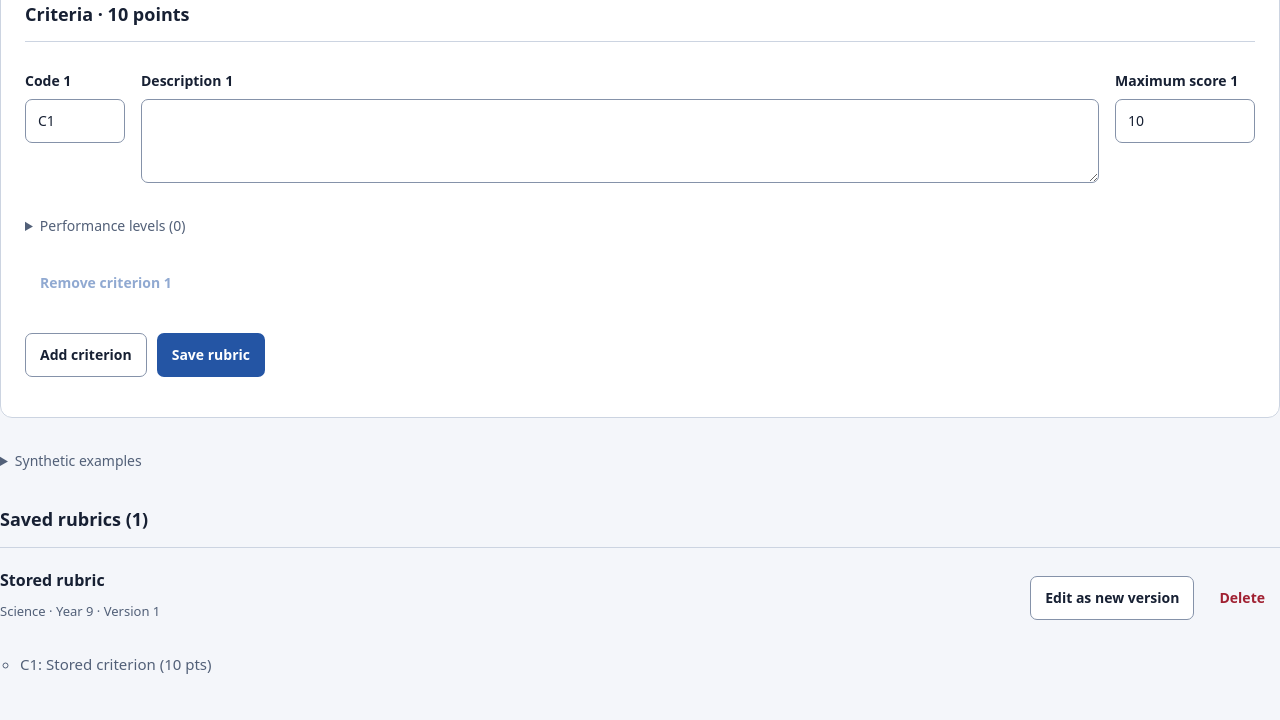
Test case: refuses duplicate criterion codes before a backend write
The width and height of the screenshot is (1280, 720).
(page scrolled)
Click the button with aria-label "Edit Stored rubric". click: (1112, 598)
box: [1030, 576, 1194, 620]
(page scrolled)
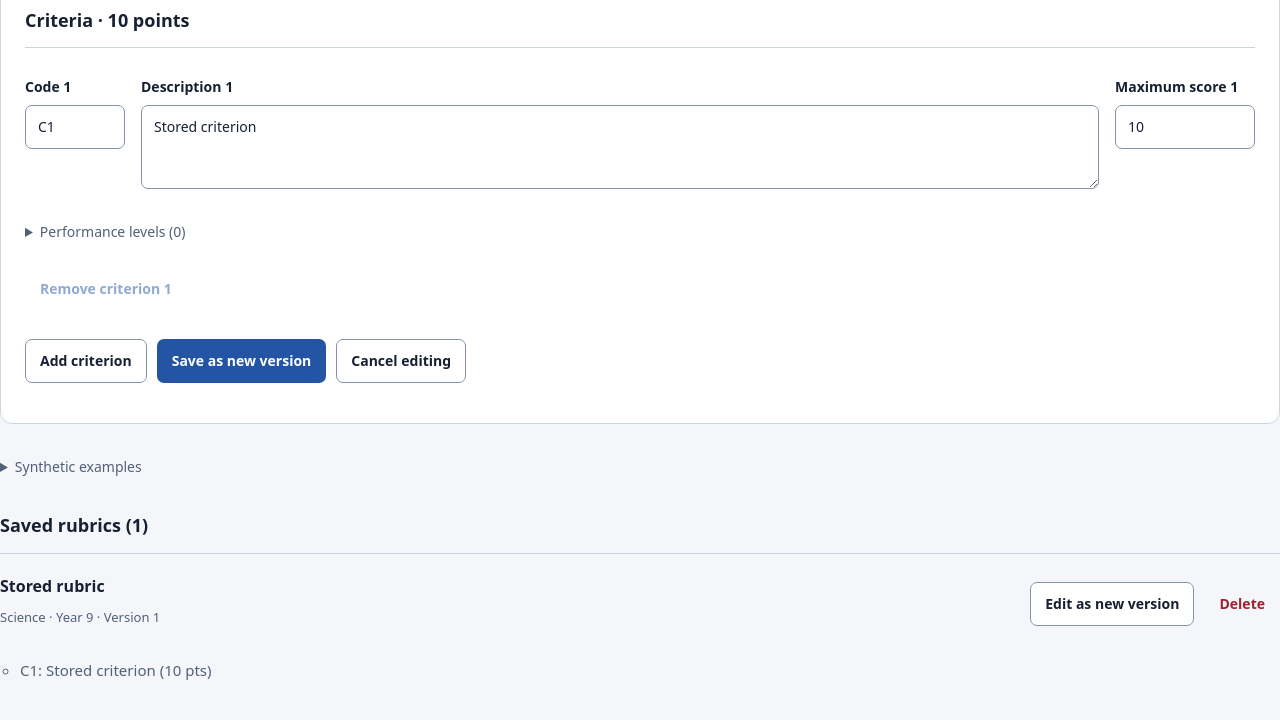
Click the button "Add criterion". click: (86, 361)
box: [25, 339, 147, 383]
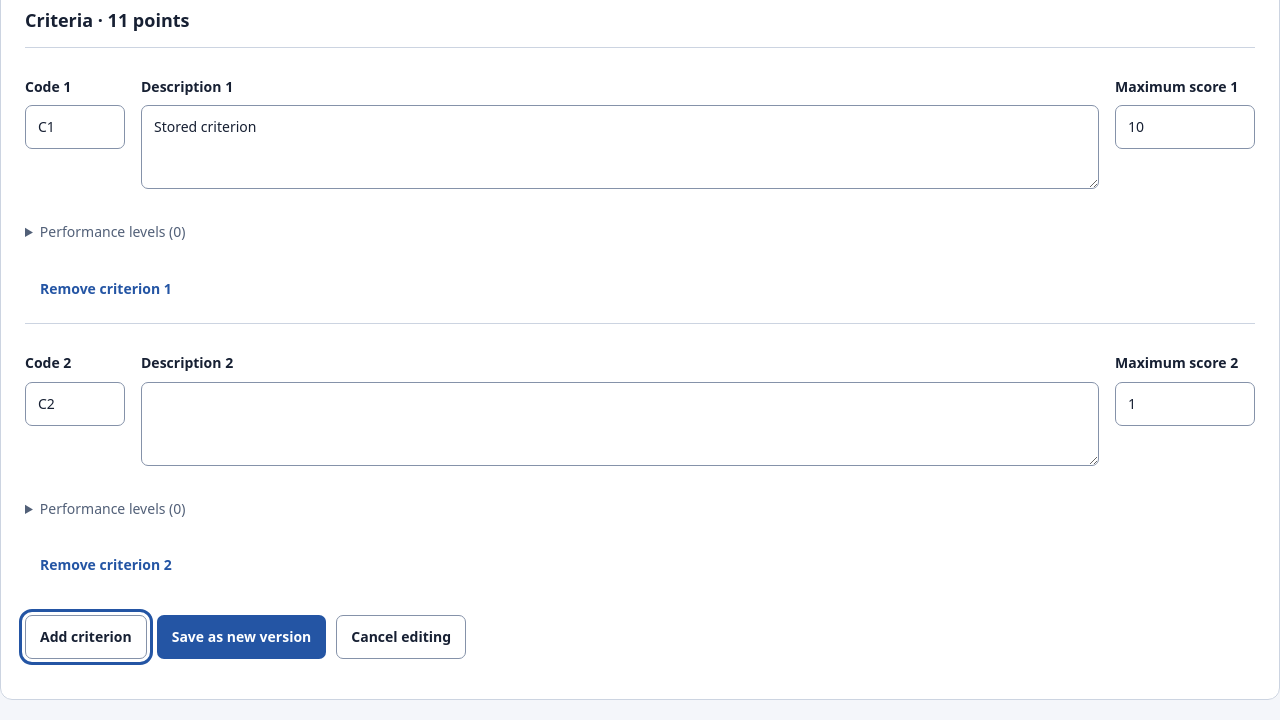
Replace the text in the field labelled "Code 2" with "C1". click: (75, 404)
box: [25, 382, 125, 426]
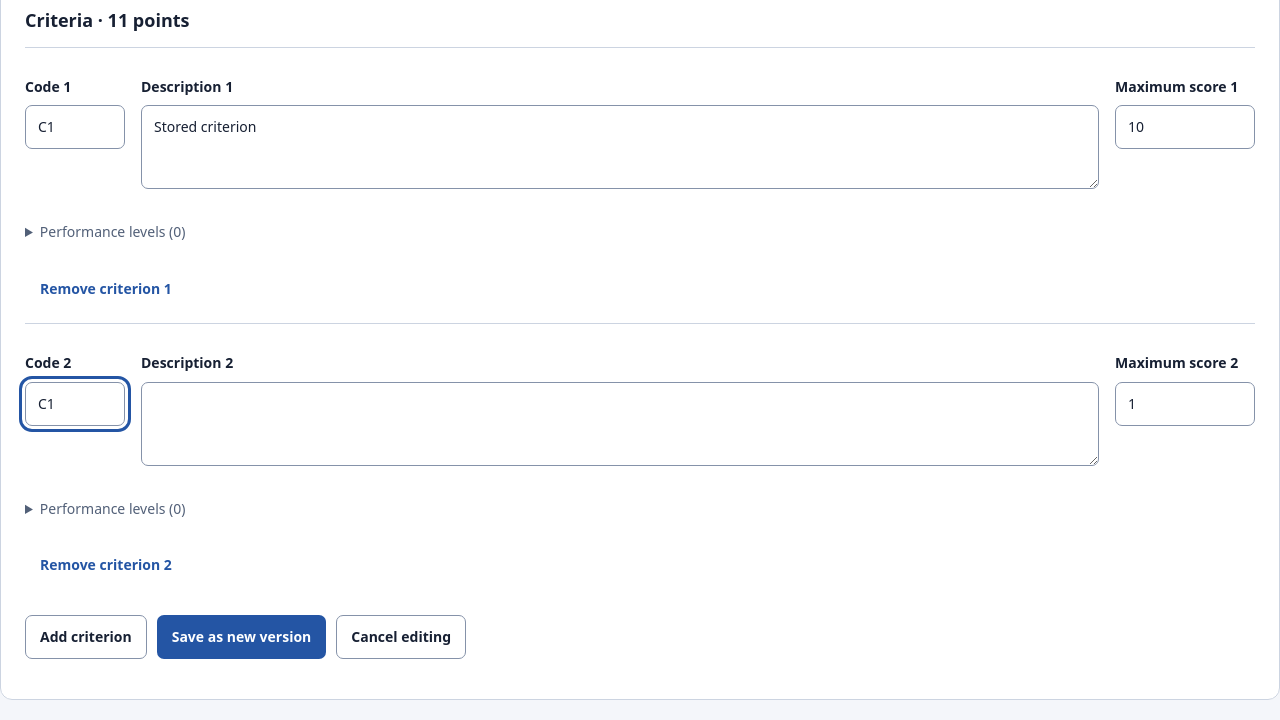
Type "Another criterion" into the text box labelled "Description 2". click: (620, 424)
box: [141, 382, 1099, 466]
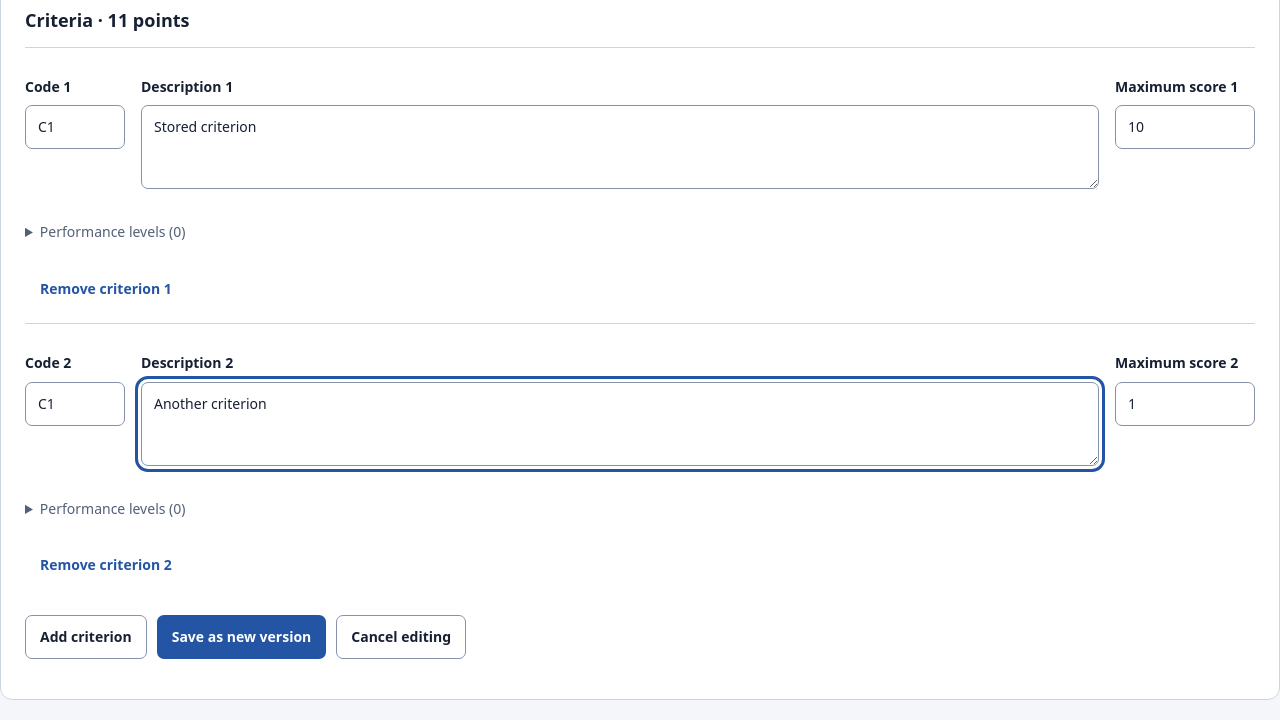
Click the button "Save as new version". click: (242, 637)
box: [157, 615, 326, 659]
(page scrolled)
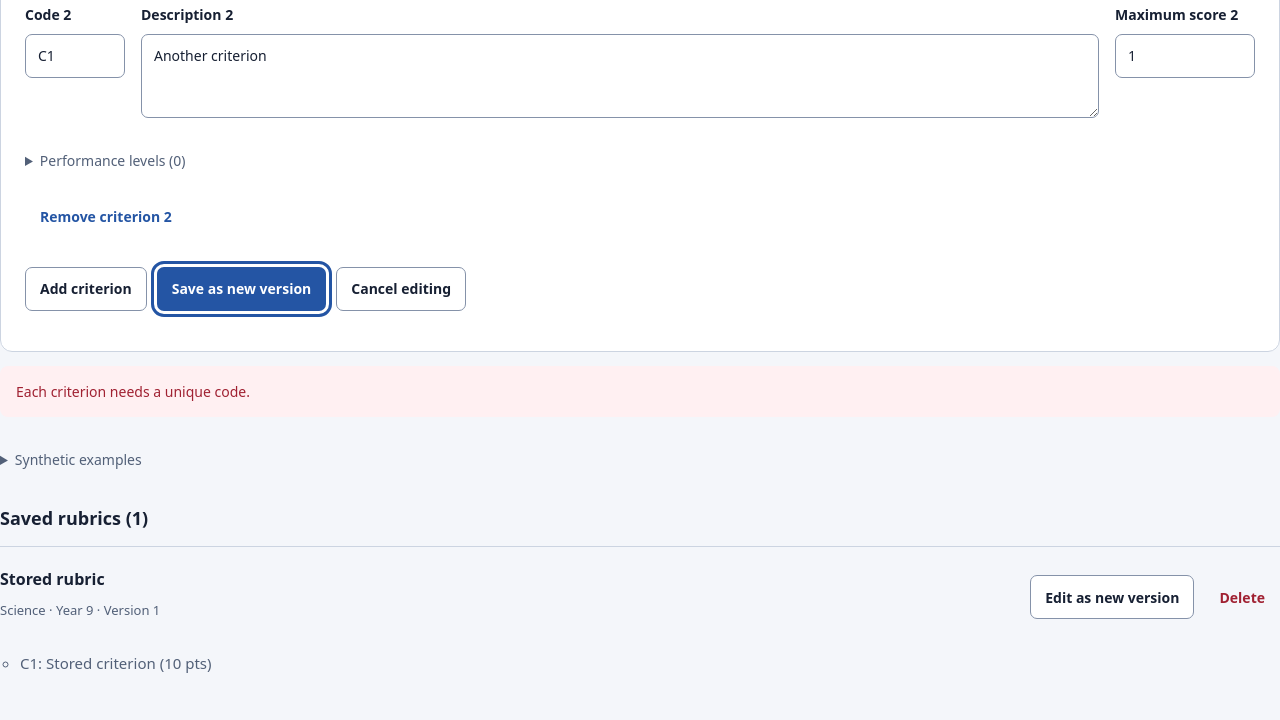
Result: the message shows "unique code" at [16, 382, 250, 401]
